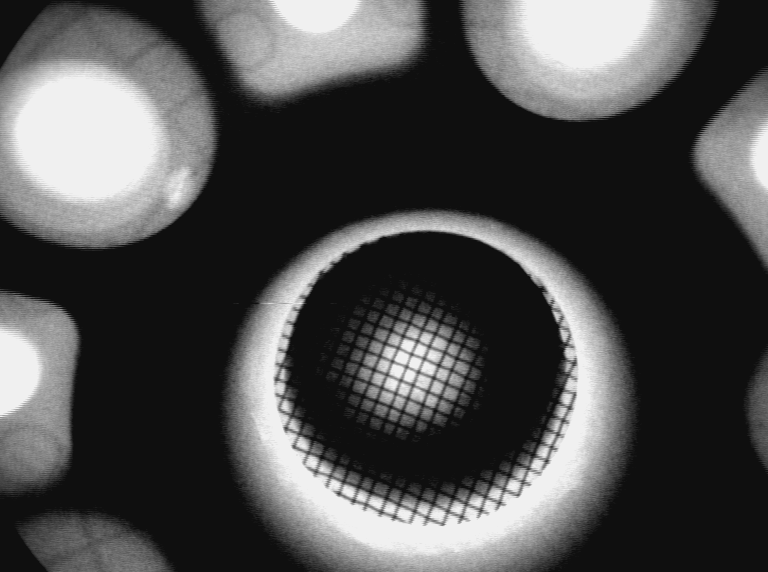defect: (163, 160, 195, 219)
